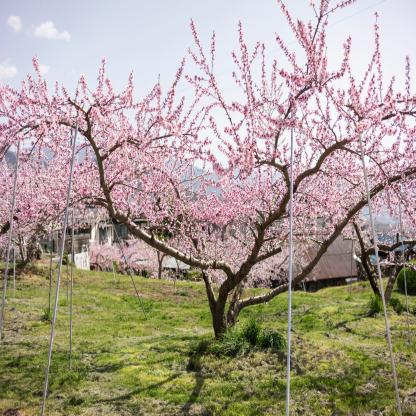Momo: (1, 0, 416, 272), (117, 238, 166, 270), (86, 234, 119, 273)
